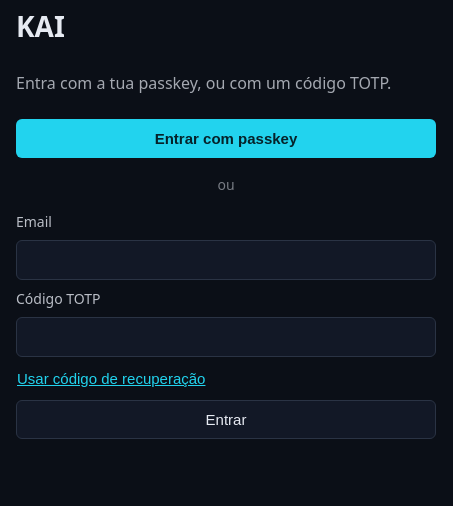
Test: LoginPage › AC-02c: um código inválido mostra o erro num alerta e não entra
In the field labelled "Email": (226, 260) [16, 240, 436, 280], type "owner@example.test"
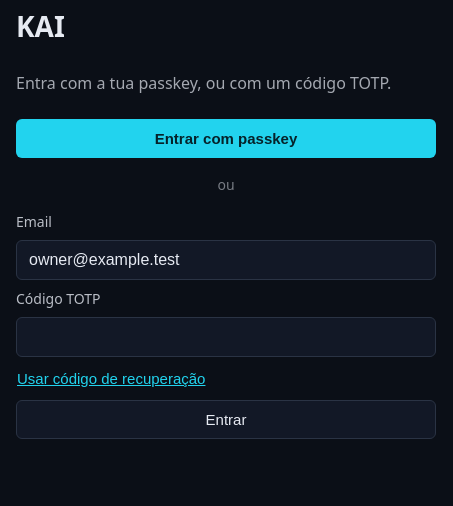
In the field labelled "Código TOTP": (226, 337) [16, 317, 436, 357], type "000000"
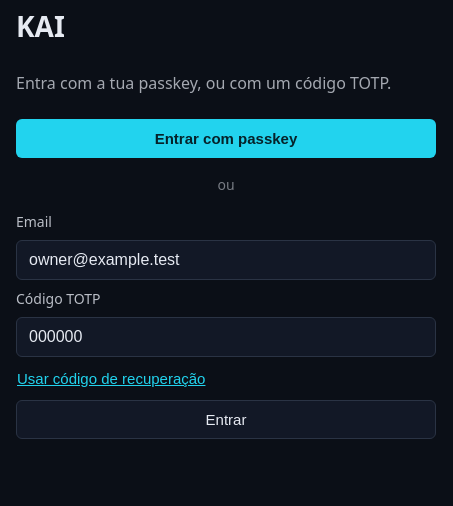
Click the button "Entrar": (226, 420) [16, 400, 436, 439]
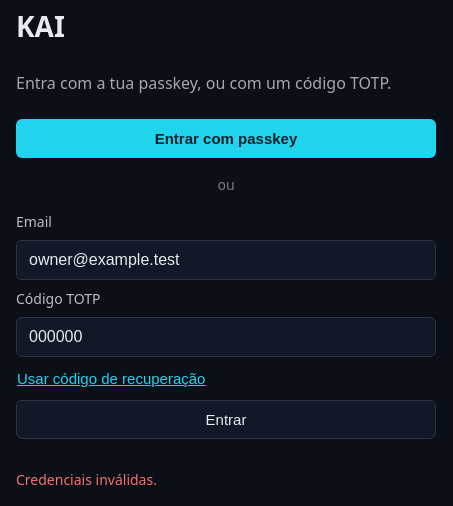
Now the message reads "Credenciais inválidas.", box [16, 470, 157, 489]
